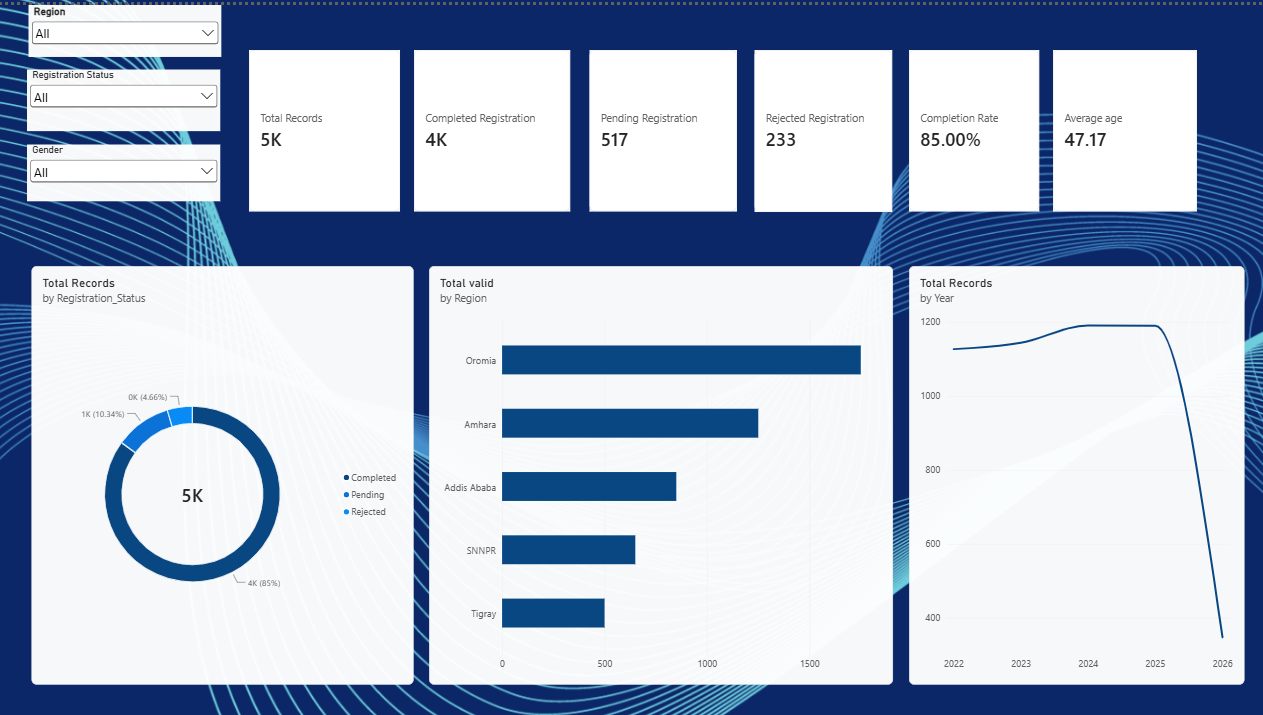

The dashboard page shown, as its layout file describes it:
{"tool":"powerbi","page":{"name":"National ID Overview","canvas":[1920,1080],"ordinal":0},"visuals":[{"type":"cardVisual","fields":{"Data":["Dataset_5000.Total Records"]},"box":[381.6,68.4,228.8,244.9],"z":0},{"type":"cardVisual","fields":{"Data":["Dataset_5000.Completed Registration"]},"box":[631.6,68.4,236.9,244.9],"z":1000},{"type":"cardVisual","fields":{"Data":["Dataset_5000.Pending Registration"]},"box":[897.4,68.4,223.4,244.9],"z":2000},{"type":"cardVisual","fields":{"Data":["Dataset_5000.Rejected Registration"]},"box":[1147.4,68.4,209,245.3],"z":3000},{"type":"slicer","fields":{"Values":["Dataset_5000.Region"]},"box":[47.7,0,292.1,78.9],"z":4000},{"type":"donutChart","fields":{"Category":["Dataset_5000.Registration_Status"],"Y":["Dataset_5000.Total Records"]},"box":[52.2,395.2,578.9,634.2],"z":5000},{"type":"clusteredBarChart","fields":{"Category":["Dataset_5000.Region"],"Y":["Dataset_5000.Total valid"]},"box":[654.1,395.2,702.6,634.2],"z":6000},{"type":"cardVisual","fields":{"Data":["Dataset_5000.Average age"]},"box":[1600,68.4,218,244.9],"z":7000},{"type":"lineChart","fields":{"Category":["DateTable.Year"],"Y":["Dataset_5000.Total Records"]},"box":[1381,395.2,507.9,634.2],"z":8000},{"type":"cardVisual","fields":{"Data":["Dataset_5000.Completion Rate"]},"box":[1381.6,68.4,197.4,244.7],"z":9000},{"type":"slicer","fields":{"Values":["Dataset_5000.Registration_Status"]},"box":[45.4,97.7,293,93.1],"z":10000},{"type":"slicer","fields":{"Values":["Dataset_5000.Gender"]},"box":[45.4,211.2,293,86.3],"z":11000}]}

Visuals, with their boxes in screenshot pixels (x1, y1, x2, y2), scaled from the page's 1920x1080 canvas onto the 1263x715 screenshot:
cardVisual - Dataset_5000.Total Records: crop(251, 45, 402, 207)
cardVisual - Dataset_5000.Completed Registration: crop(415, 45, 571, 207)
cardVisual - Dataset_5000.Pending Registration: crop(590, 45, 737, 207)
cardVisual - Dataset_5000.Rejected Registration: crop(755, 45, 892, 208)
slicer - Dataset_5000.Region: crop(31, 0, 224, 52)
donutChart - Dataset_5000.Registration_Status x Dataset_5000.Total Records: crop(34, 262, 415, 682)
clusteredBarChart - Dataset_5000.Region x Dataset_5000.Total valid: crop(430, 262, 892, 682)
cardVisual - Dataset_5000.Average age: crop(1052, 45, 1196, 207)
lineChart - DateTable.Year x Dataset_5000.Total Records: crop(908, 262, 1243, 682)
cardVisual - Dataset_5000.Completion Rate: crop(909, 45, 1039, 207)
slicer - Dataset_5000.Registration_Status: crop(30, 65, 223, 126)
slicer - Dataset_5000.Gender: crop(30, 140, 223, 197)
